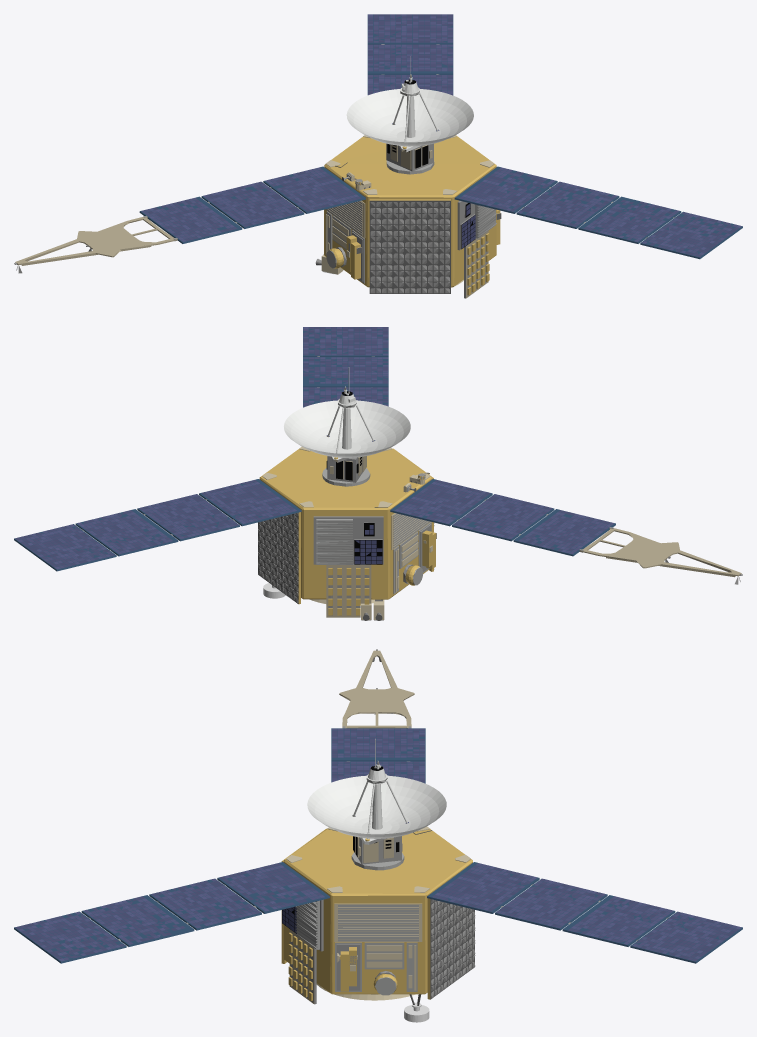
File: juno.glb
3 renders of one model, top to bottom at view 1: azimuth 30°, elevation 25°; view 2: azimuth 150°, elevation 25°; view 3: azimuth 270°, elevation 25°, orthographic. The views are drawn at different scales.
Parts seen in each view (by area): view 1: Layer_0; view 2: Layer_0; view 3: Layer_0.
Boxes of the visible parts, x1,y1,x2,y2 form: Layer_0: (14, 14, 742, 298); Layer_0: (14, 327, 742, 620); Layer_0: (14, 649, 742, 1022).
Bounding box in the file's own units: 23.26 × 8.73 × 22.92.
